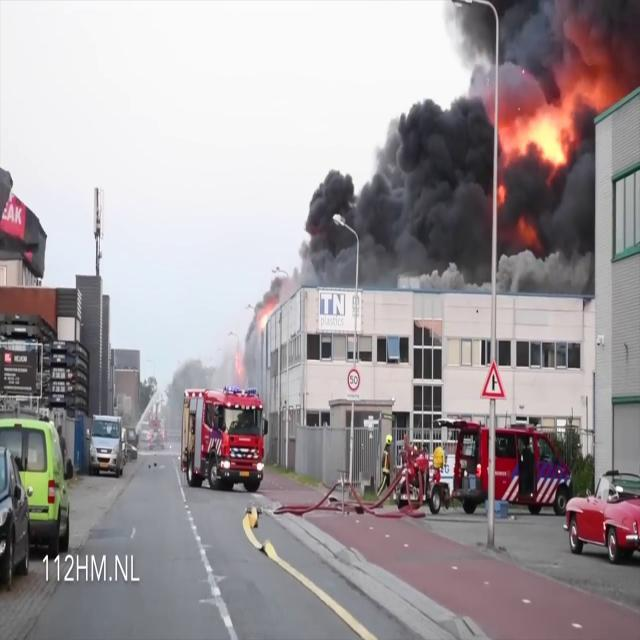Fire: (500, 70, 594, 172)
Smoke: (281, 0, 640, 299)
